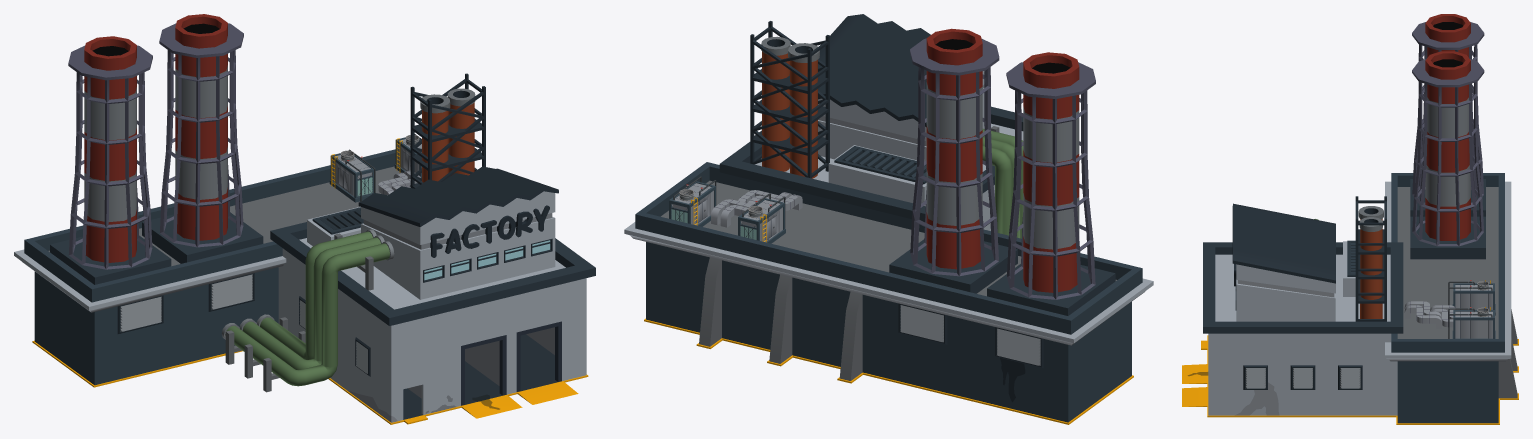
Rendered from SM_Buildings_Factory_02.fbx.
The picture shows the model from 3 angles, left to right: view 1: azimuth 30°, elevation 25°; view 2: azimuth 150°, elevation 25°; view 3: azimuth 270°, elevation 25°; orthographic projection. The views are drawn at different scales.
Parts seen in each view (by area): view 1: SM_Buildings_Factory_02; view 2: SM_Buildings_Factory_02; view 3: SM_Buildings_Factory_02.
Boxes of the visible parts, left/top/right/bottom form: SM_Buildings_Factory_02: left=14, top=14, right=595, bottom=424; SM_Buildings_Factory_02: left=624, top=14, right=1153, bottom=424; SM_Buildings_Factory_02: left=1182, top=14, right=1518, bottom=424.
Size of the model in its own units: 32.6 by 22.47 by 26.69.
